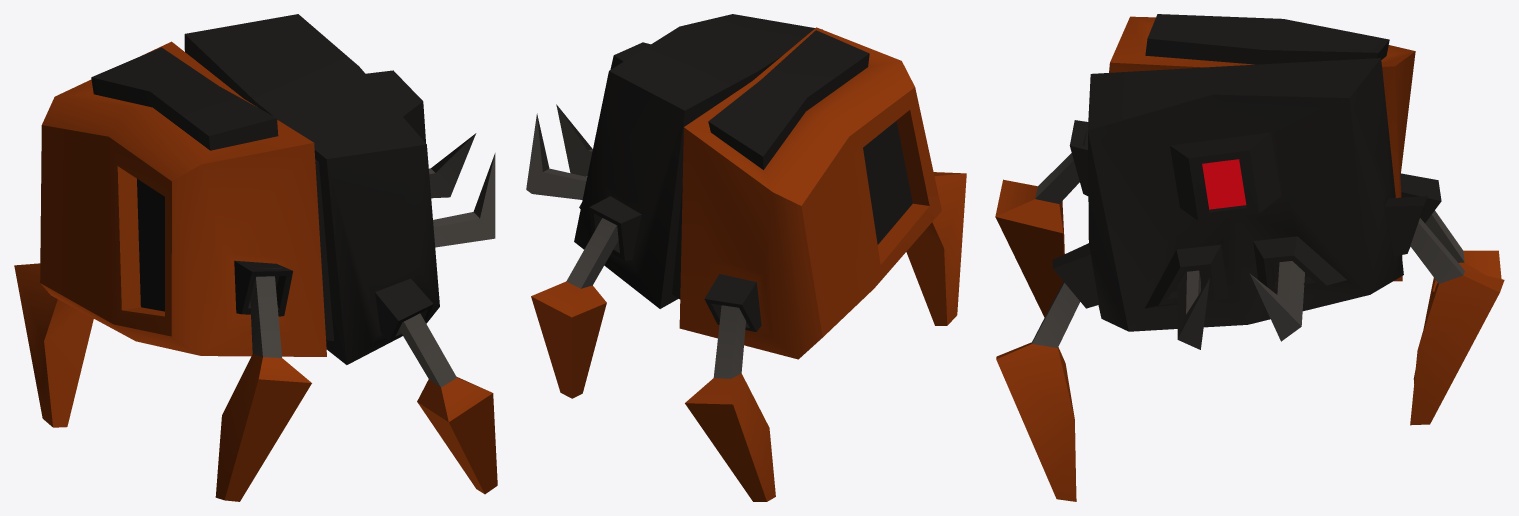
File: SPIDBOT5.obj
3 views of the same model, side by side, from view 1: azimuth 30°, elevation 25°; view 2: azimuth 150°, elevation 25°; view 3: azimuth 270°, elevation 25° (orthographic). The views are drawn at different scales.
Parts seen in each view (by area): view 1: Cube.001; view 2: Cube.001; view 3: Cube.001.
Part boxes in pixels (x1,y1,x2,y2): Cube.001: (14,14,497,501); Cube.001: (526,14,966,501); Cube.001: (995,14,1504,501).
Size of what is drawn, in the model's own units: 2.85 by 2.84 by 3.38.
